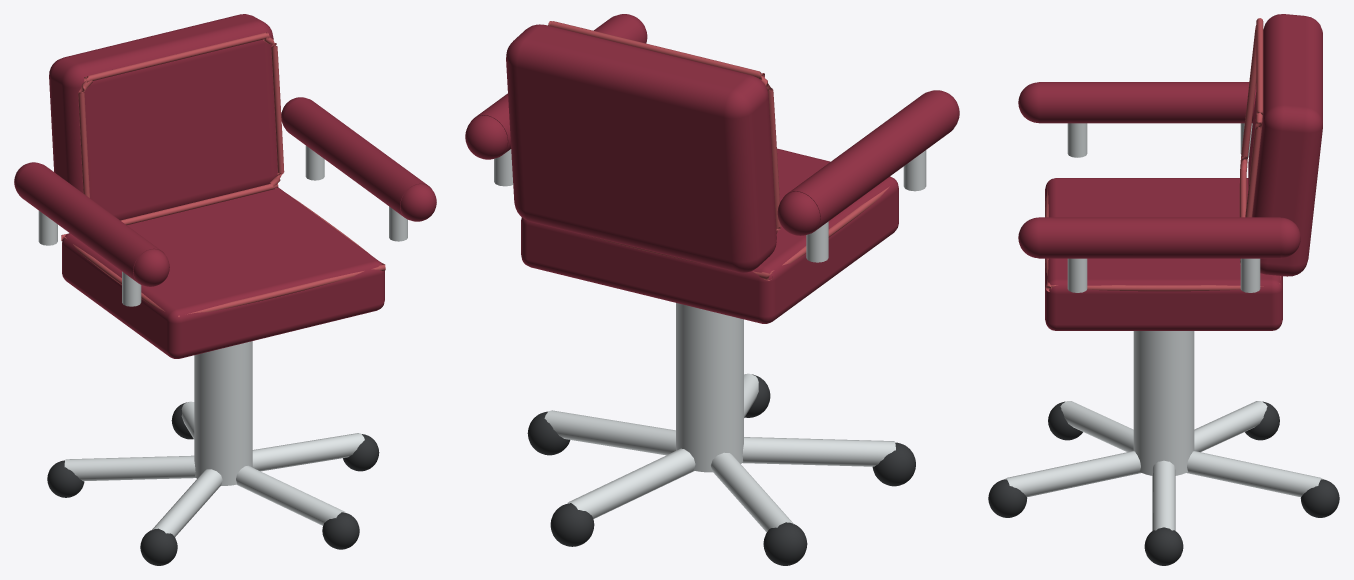
The model's file is barbershop-and-hair-salon-styling-chair-09cf2f51__29636.glb.
3 views of the same model, side by side, from view 1: azimuth 30°, elevation 25°; view 2: azimuth 150°, elevation 25°; view 3: azimuth 270°, elevation 25° (orthographic). The views are drawn at different scales.
Visible parts, largest first — view 1: styling-chair; view 2: styling-chair; view 3: styling-chair.
Boxes of the visible parts, x1,y1,x2,y2 form: styling-chair: (14,14,436,565); styling-chair: (465,14,959,565); styling-chair: (988,14,1339,565).
Size of the model in its own units: 0.843 by 1.11 by 0.8128.
